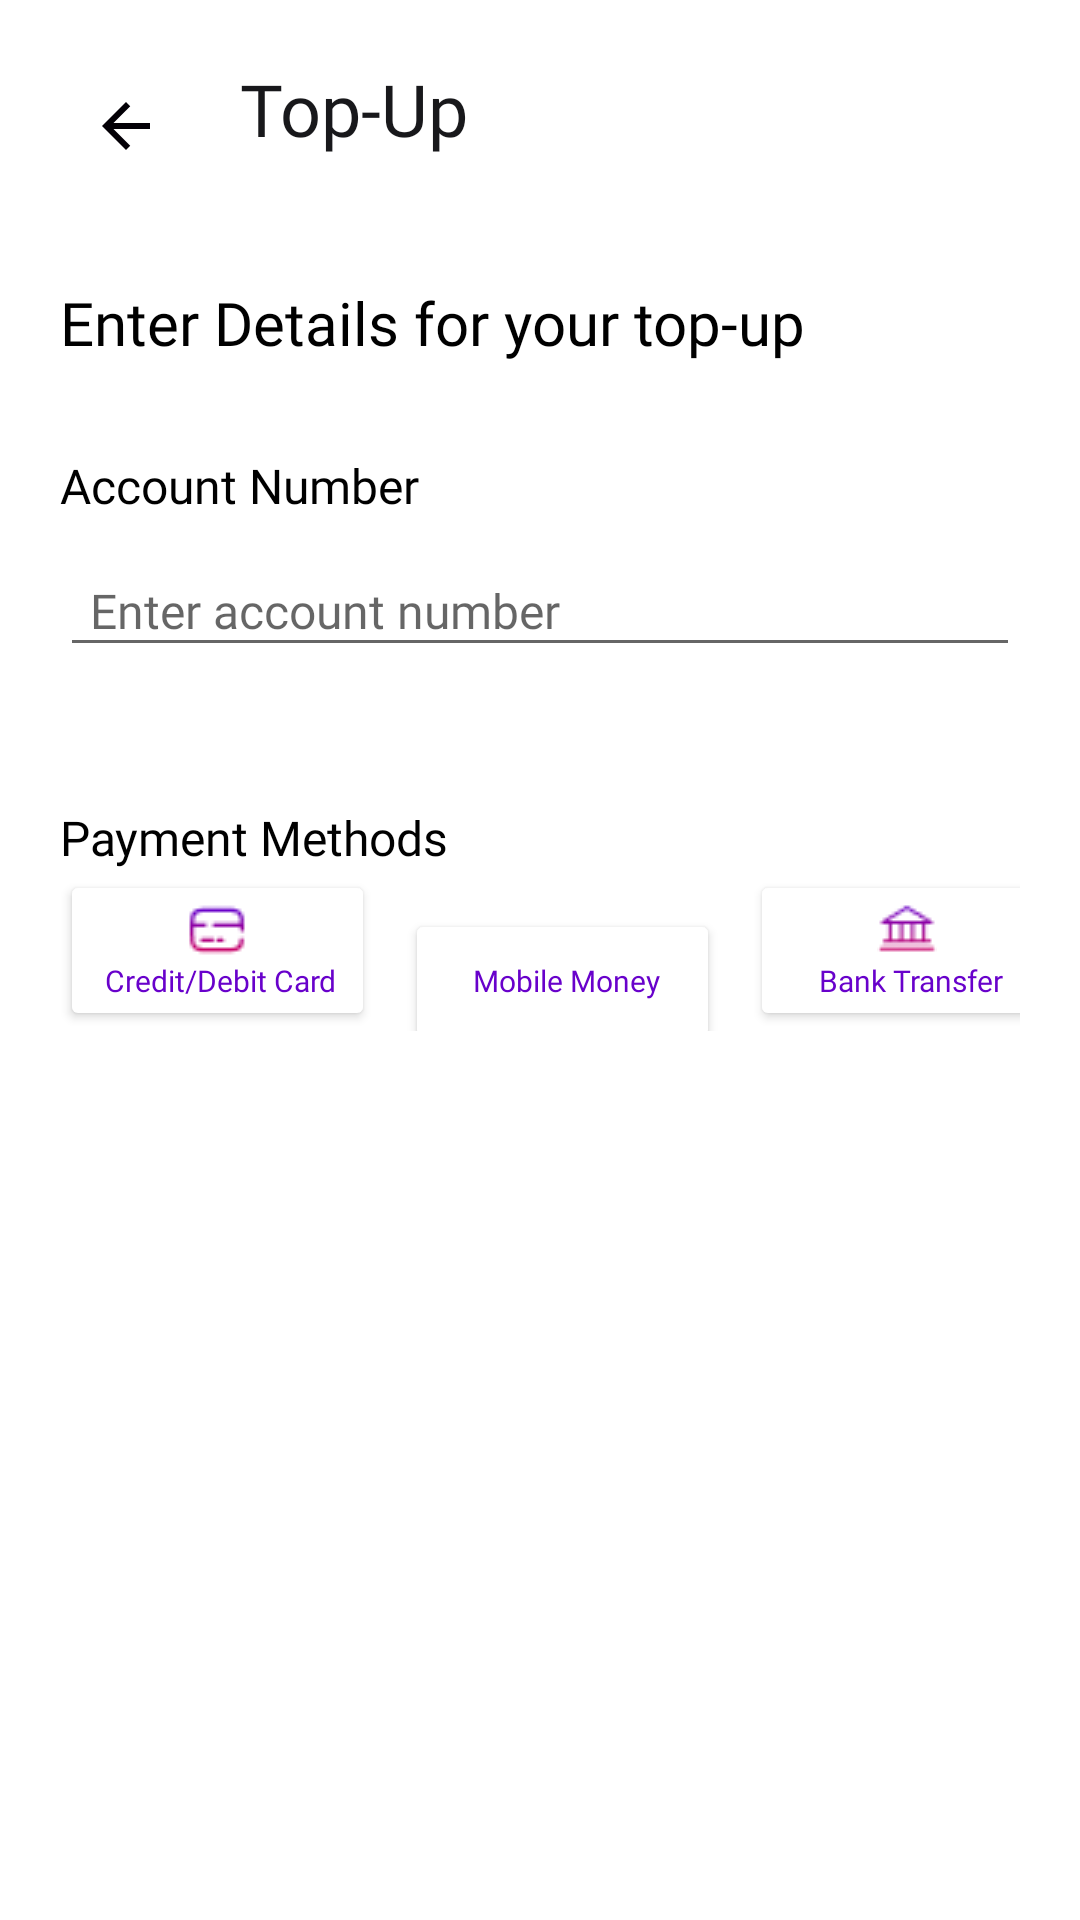

Where icons sit on this 1080px x 1920px app screen, as (x1, y1, x2, y2):
arrow back: (102, 102, 150, 150)
